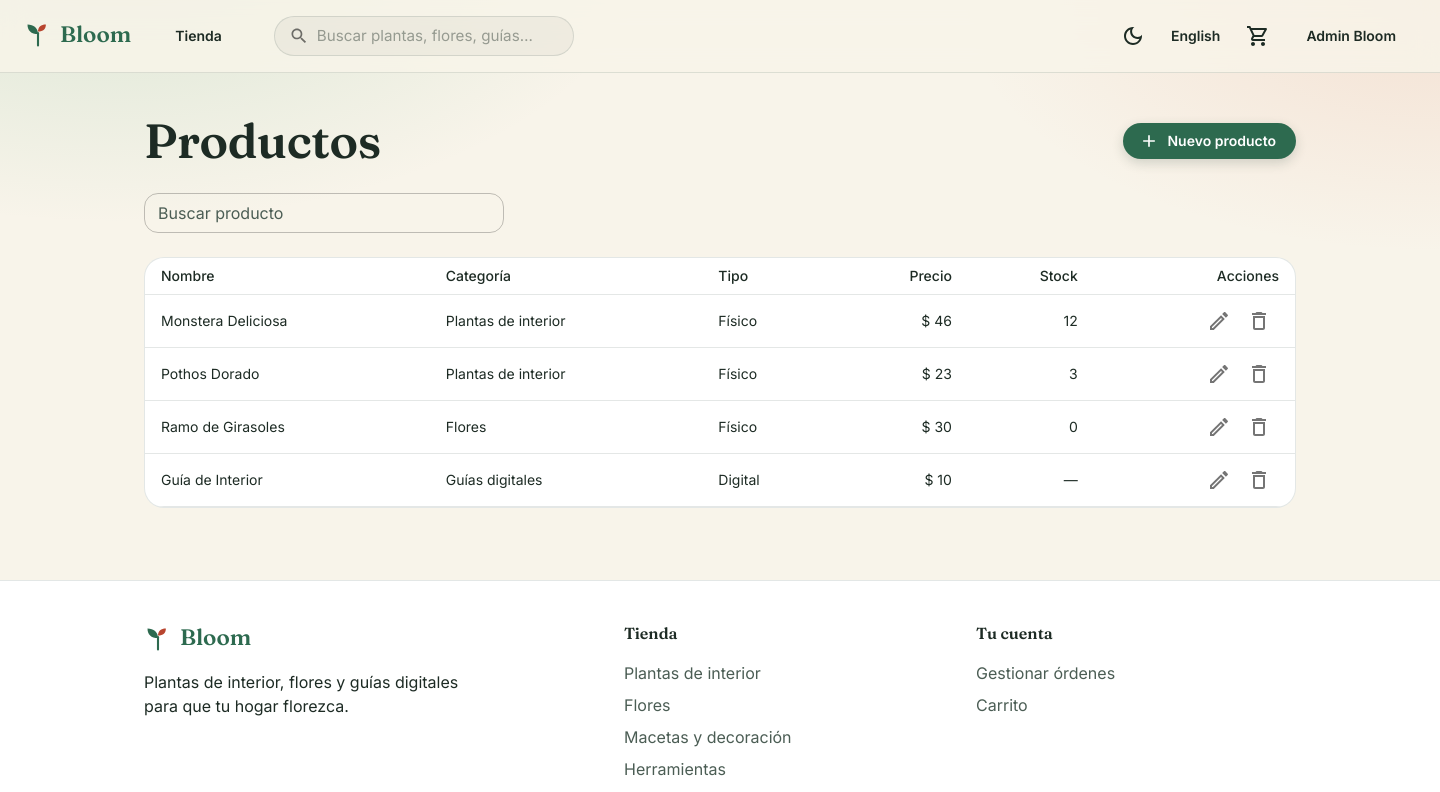
Test case: AdminProductsPage › should_create_a_physical_product
Click the button "Nuevo producto" at point(1210, 141), box [1124, 123, 1296, 159]
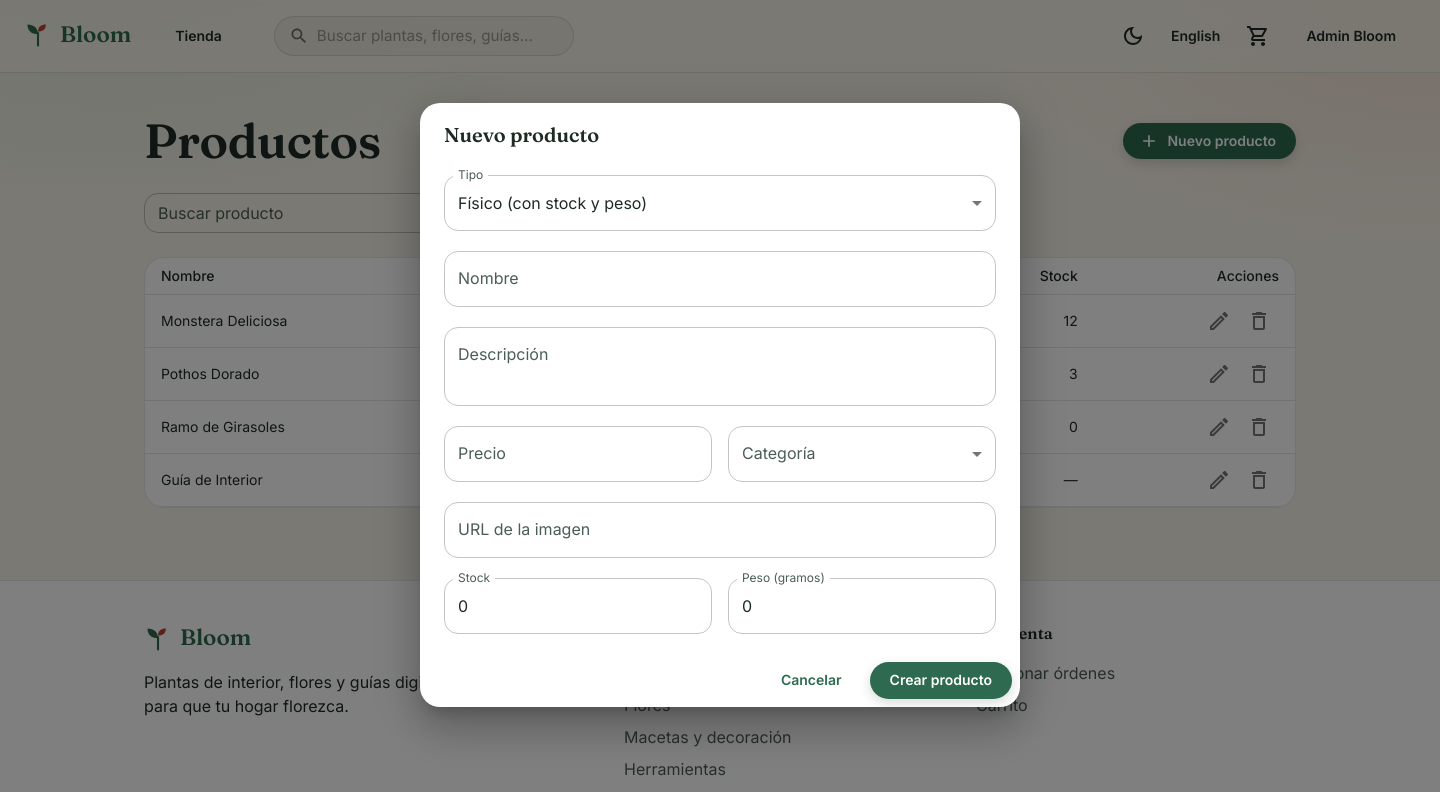
Type "Cactus nuevo" into the field labelled "Nombre" at point(720, 279), box [444, 251, 996, 307]
Type "12.50" into the number field labelled "Precio" at point(578, 454), box [444, 426, 712, 482]
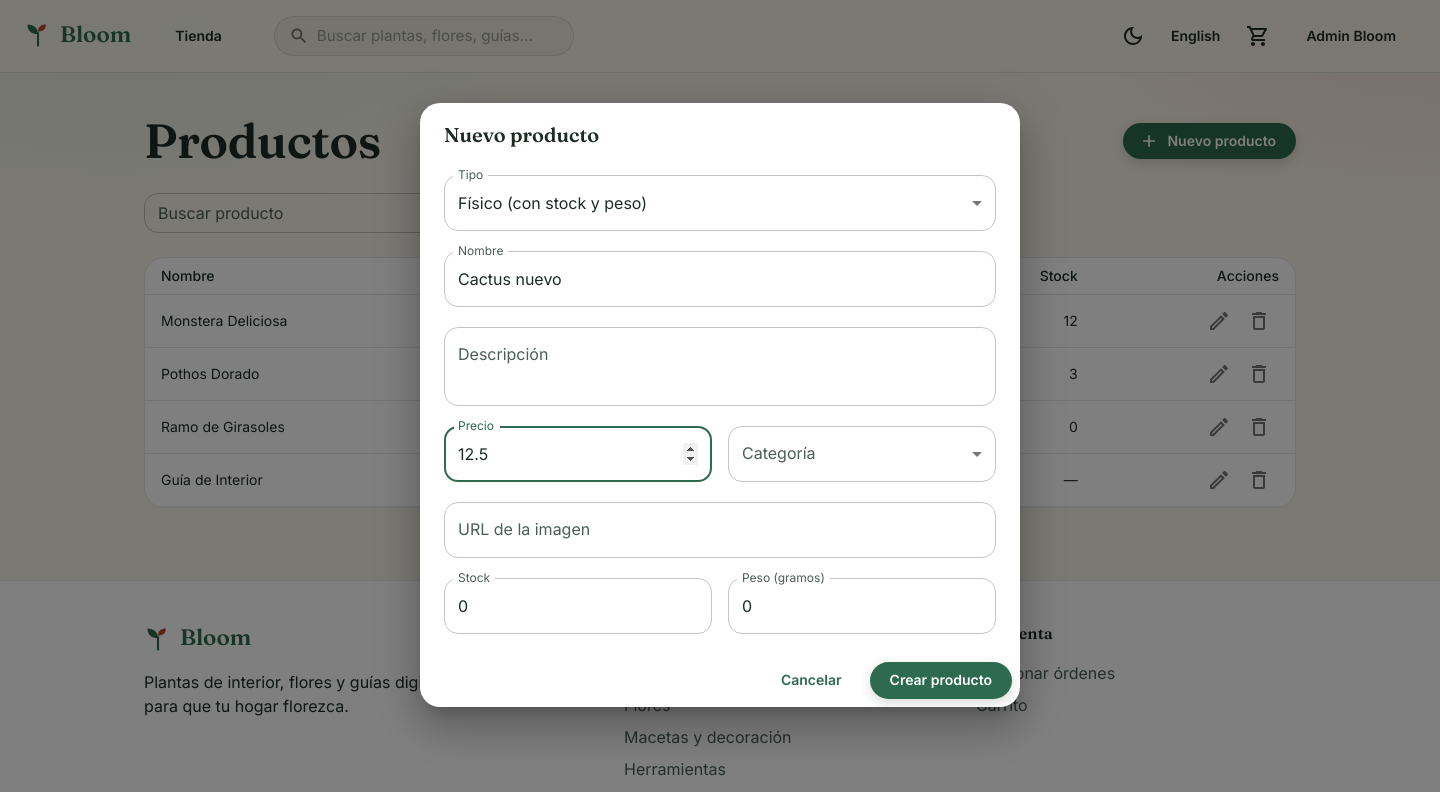
Click the dropdown named "Categoría" at point(862, 454), box [728, 426, 996, 482]
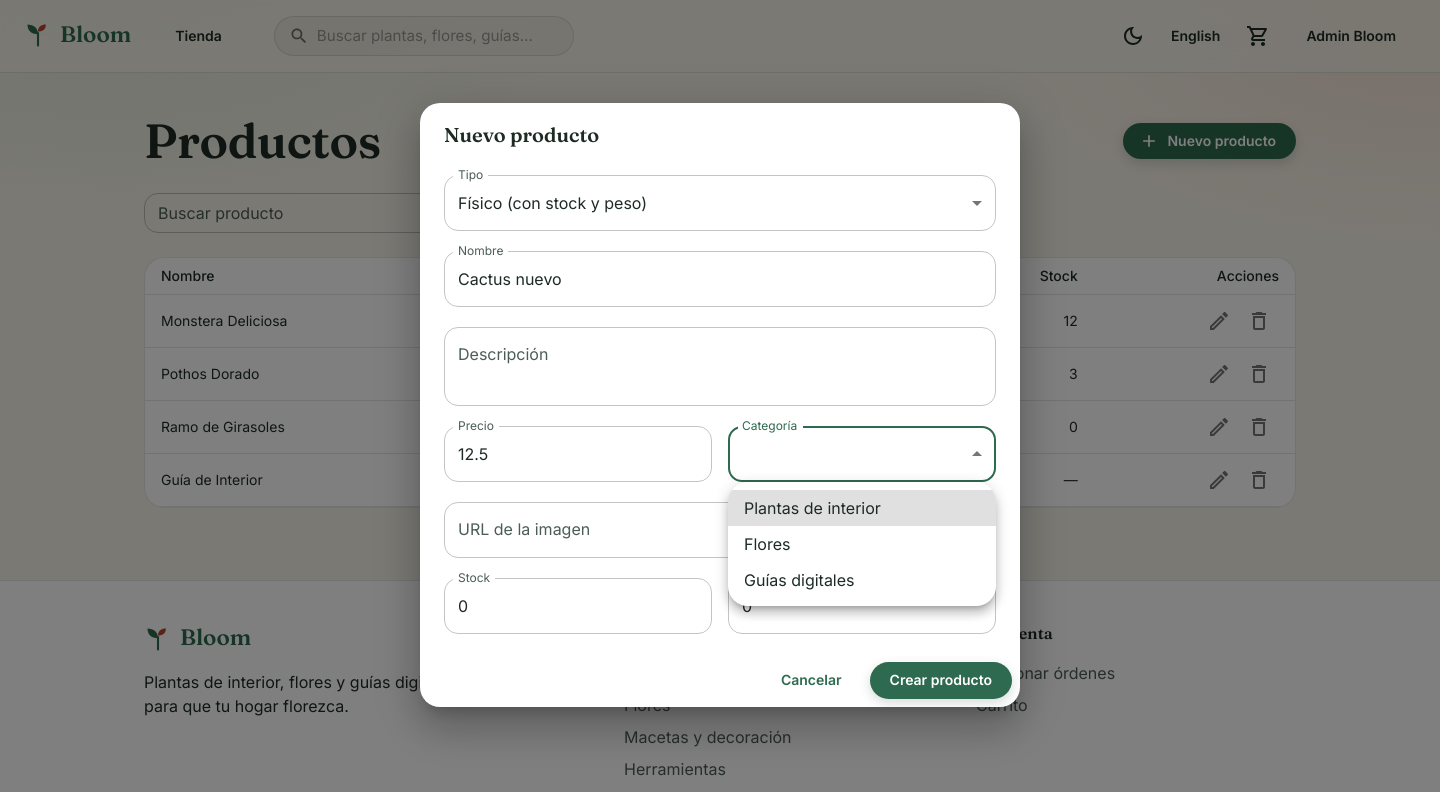
Click the option "Flores" at point(767, 544), box [744, 534, 790, 554]
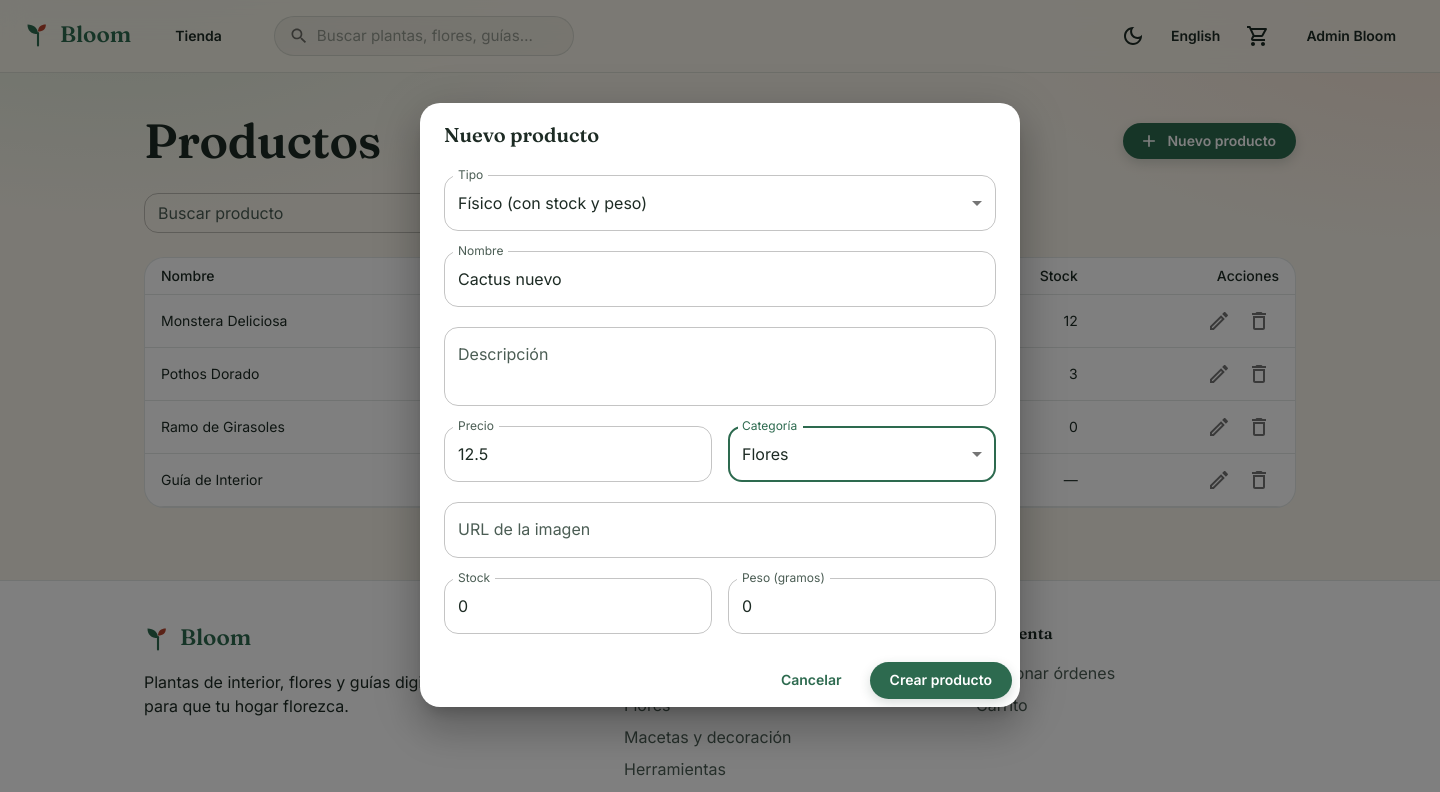
Replace the text in the number field labelled "Stock" with "7" at point(578, 606), box [444, 578, 712, 634]
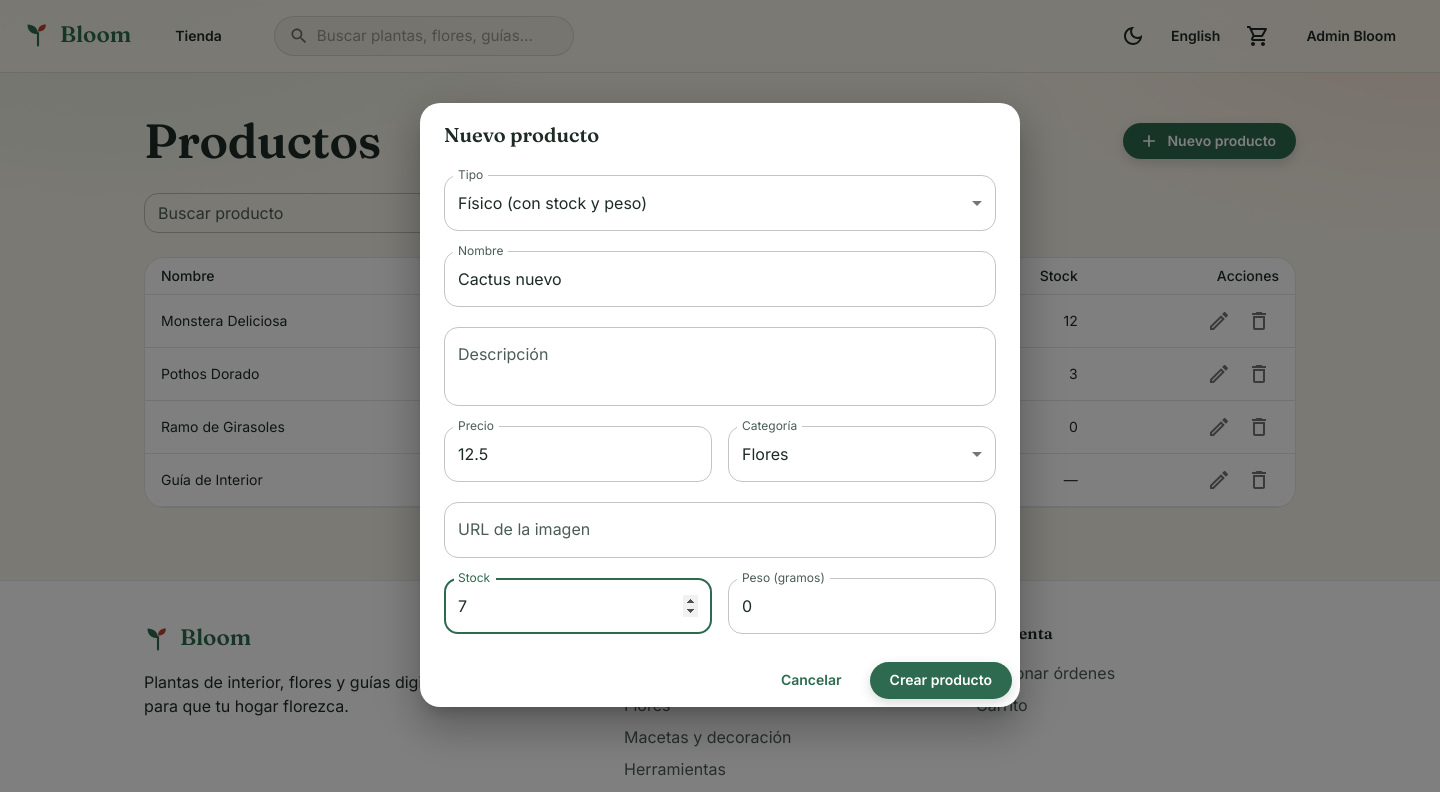
Click the button "Crear producto" at point(941, 681), box [870, 662, 1012, 699]
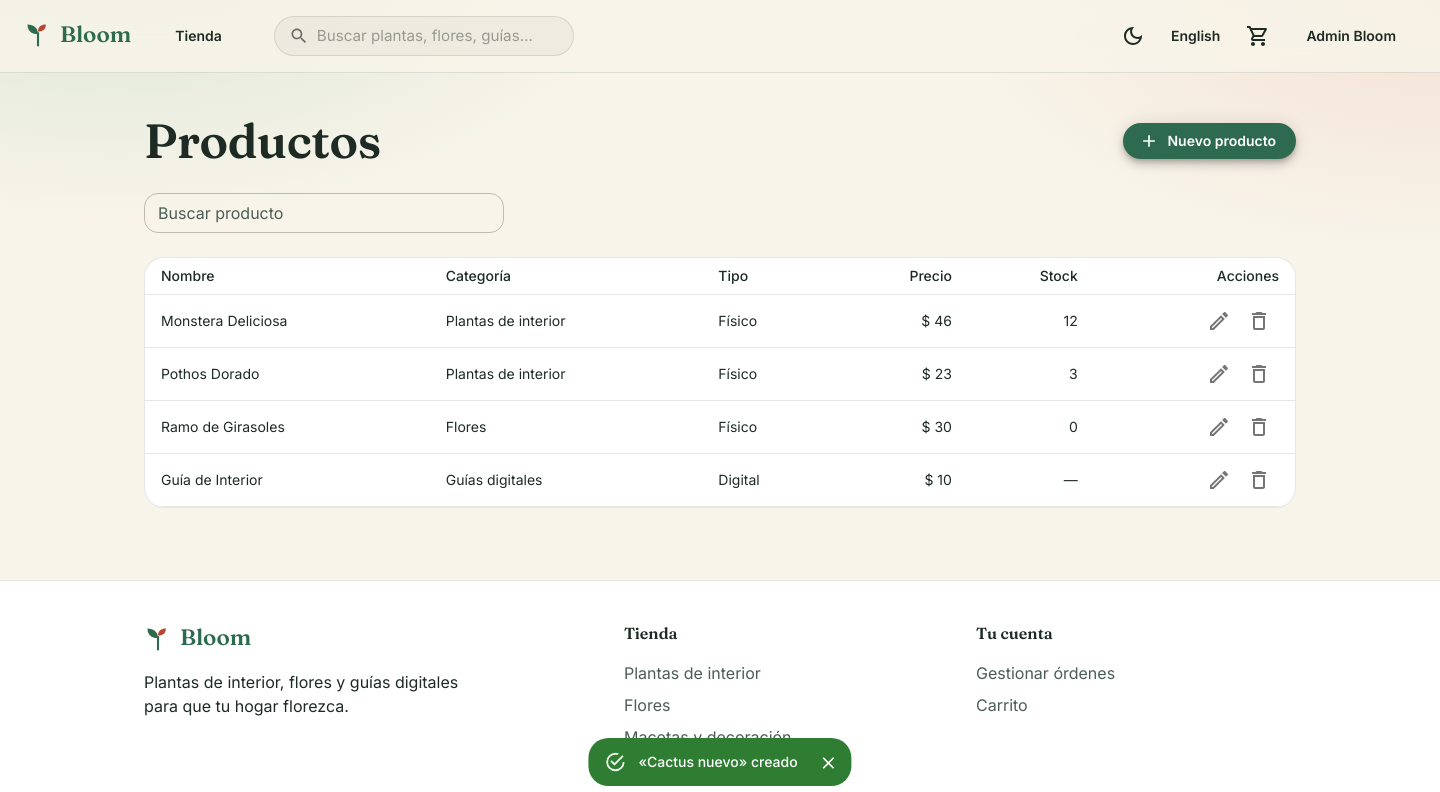
expect the text "«Cactus nuevo» creado" is shown: met, box [638, 753, 798, 770]
